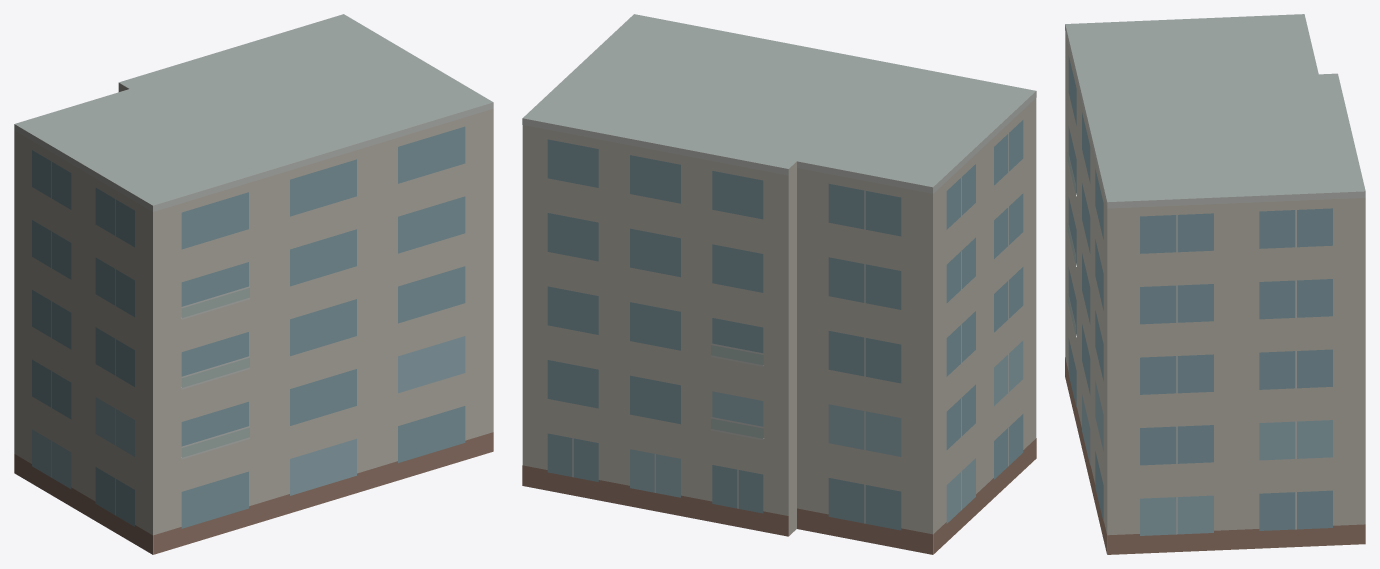
File: survey-upis-32473241.glb
The picture shows the model from 3 angles, left to right: view 1: azimuth 30°, elevation 25°; view 2: azimuth 150°, elevation 25°; view 3: azimuth 270°, elevation 25°; orthographic projection. The views are drawn at different scales.
Visible parts, largest first — view 1: survey-upis-32473241.tmp; view 2: survey-upis-32473241.tmp; view 3: survey-upis-32473241.tmp.
Part boxes in pixels (x1=…): survey-upis-32473241.tmp: x1=14, y1=14, x2=493, y2=554; survey-upis-32473241.tmp: x1=522, y1=14, x2=1036, y2=554; survey-upis-32473241.tmp: x1=1065, y1=14, x2=1365, y2=554.
Bounding box in the file's own units: 15.57 × 13.6 × 10.51.
